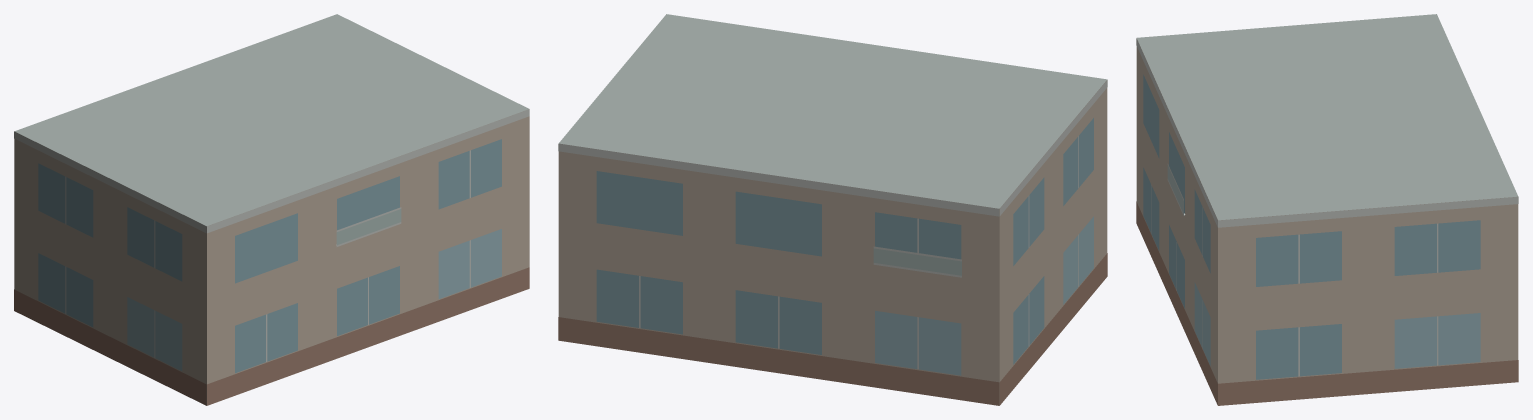
File: survey-upis-32700501.glb
3 views of the same model, side by side, from view 1: azimuth 30°, elevation 25°; view 2: azimuth 150°, elevation 25°; view 3: azimuth 270°, elevation 25° (orthographic). The views are drawn at different scales.
Parts seen in each view (by area): view 1: survey-upis-32700501.tmp; view 2: survey-upis-32700501.tmp; view 3: survey-upis-32700501.tmp.
Boxes of the visible parts, x1,y1,x2,y2 form: survey-upis-32700501.tmp: (14,14,529,405); survey-upis-32700501.tmp: (558,14,1107,405); survey-upis-32700501.tmp: (1136,14,1518,405).
Bounding box in the file's own units: 14.57 × 6.1 × 11.4.
